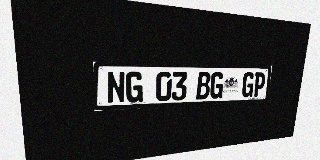0: (156, 72, 172, 101)
3: (171, 72, 187, 101)
B: (196, 72, 211, 100)
G: (126, 71, 143, 103), (209, 72, 224, 99), (241, 72, 255, 97)
N: (107, 71, 125, 104)
P: (253, 72, 266, 97)
